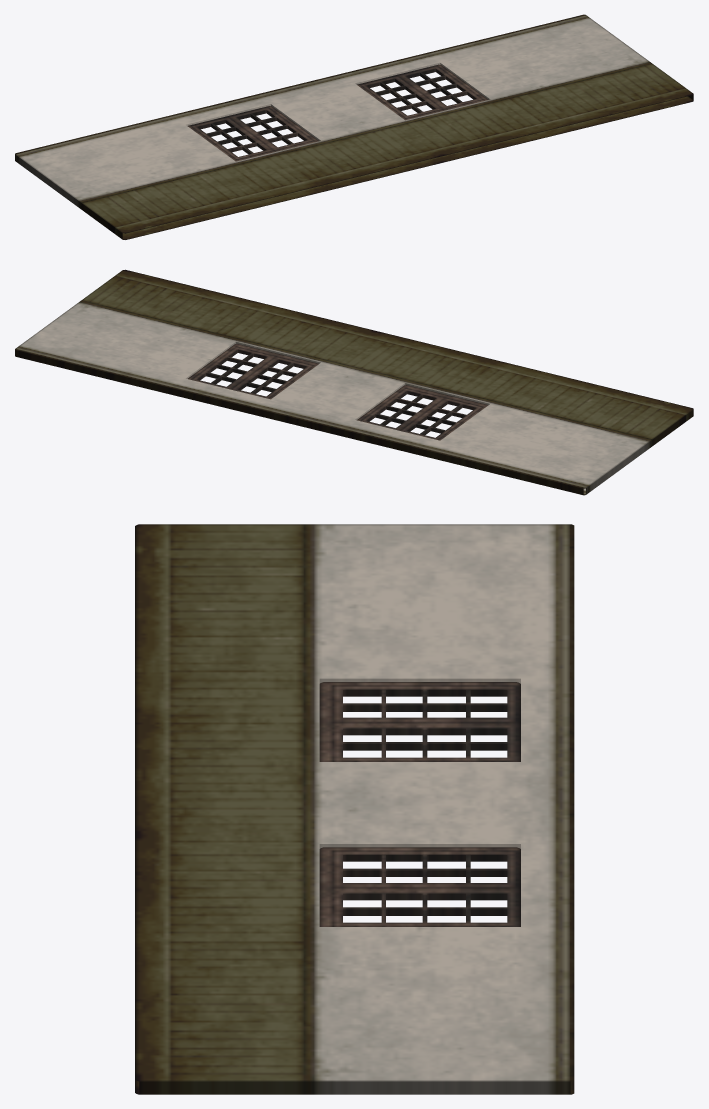
Rendered from SM_EC_House_Wall_Window_1_9x3_1.fbx.
3 renders of one model, top to bottom at view 1: azimuth 30°, elevation 25°; view 2: azimuth 150°, elevation 25°; view 3: azimuth 270°, elevation 25°, orthographic. The views are drawn at different scales.
Parts seen in each view (by area): view 1: SM_EC_House_Wall_Window_1_9x3_1; view 2: SM_EC_House_Wall_Window_1_9x3_1; view 3: SM_EC_House_Wall_Window_1_9x3_1.
Part boxes in pixels (bbox=[...]): SM_EC_House_Wall_Window_1_9x3_1: bbox=[15, 14, 693, 239]; SM_EC_House_Wall_Window_1_9x3_1: bbox=[15, 269, 693, 495]; SM_EC_House_Wall_Window_1_9x3_1: bbox=[135, 524, 574, 1094].
Bounding box in the file's own units: 9 × 3 × 0.1.
